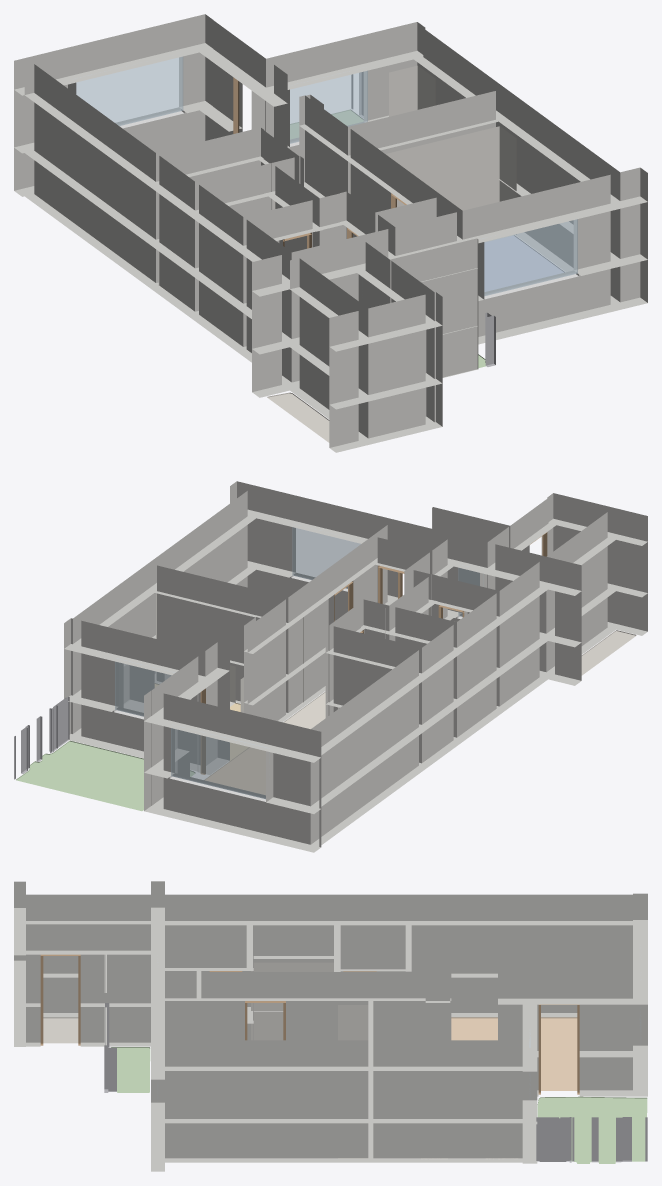
3 renders of one model, top to bottom at view 1: azimuth 30°, elevation 25°; view 2: azimuth 150°, elevation 25°; view 3: azimuth 270°, elevation 25°, orthographic. The views are drawn at different scales.
Visible parts, largest first — view 1: walls, furniture_1_closet, window_2, window_4, window_0, floor_4_Bed_Room, furniture_0_closet, floor_11_Storage, railings; view 2: walls, floor_9_Outdoor, window_4, window_2, window_0, railings, floor_0_Living_Room, furniture_4_appliance, floor_11_Storage, floor_2_Entry; view 3: walls, floor_9_Outdoor, floor_0_Living_Room, railings, furniture_2_closet, floor_10_Outdoor, furniture_1_closet, floor_8_Storage, door_10, door_3.
Part boxes in pixels (x1,y1,x2,y2): walls: (14, 14, 647, 452); furniture_1_closet: (350, 126, 516, 242); window_2: (482, 219, 577, 295); window_4: (72, 56, 183, 125); window_0: (290, 70, 367, 143); floor_4_Bed_Room: (484, 235, 564, 291); furniture_0_closet: (389, 65, 435, 116); floor_11_Storage: (267, 392, 329, 442); railings: (351, 72, 495, 366); walls: (64, 481, 647, 852); floor_9_Outdoor: (16, 740, 195, 811); window_4: (171, 724, 269, 798); window_2: (292, 525, 360, 588); window_0: (115, 658, 174, 716); railings: (14, 696, 69, 779); floor_0_Living_Room: (205, 747, 265, 794); furniture_4_appliance: (124, 664, 154, 712); floor_11_Storage: (581, 630, 636, 675); floor_2_Entry: (283, 691, 325, 729); walls: (14, 881, 647, 1171); floor_9_Outdoor: (537, 1096, 647, 1163); floor_0_Living_Room: (451, 1017, 577, 1090); railings: (104, 1003, 647, 1162); furniture_2_closet: (251, 962, 333, 1040); floor_10_Outdoor: (111, 1047, 150, 1092); furniture_1_closet: (338, 1005, 368, 1158); floor_8_Storage: (43, 1017, 78, 1043); door_10: (40, 954, 80, 1045); door_3: (538, 1004, 579, 1094).
Size of the model in its own units: 8.43 by 2.72 by 13.13.
